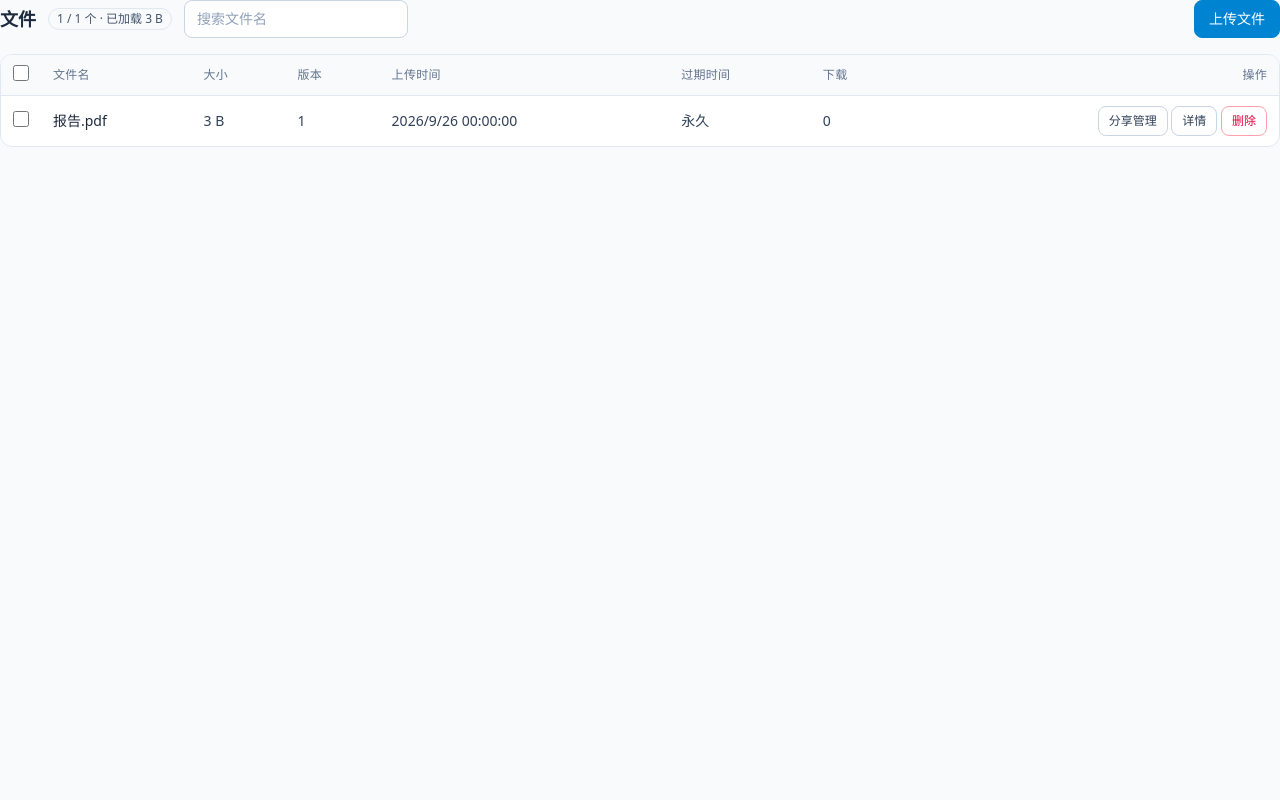
Test case: 分享管理 entry points › closes the dialog and leaves the list usable
The image size is (1280, 800).
Click the button "分享管理".
click(1133, 121)  # box [1098, 106, 1168, 136]
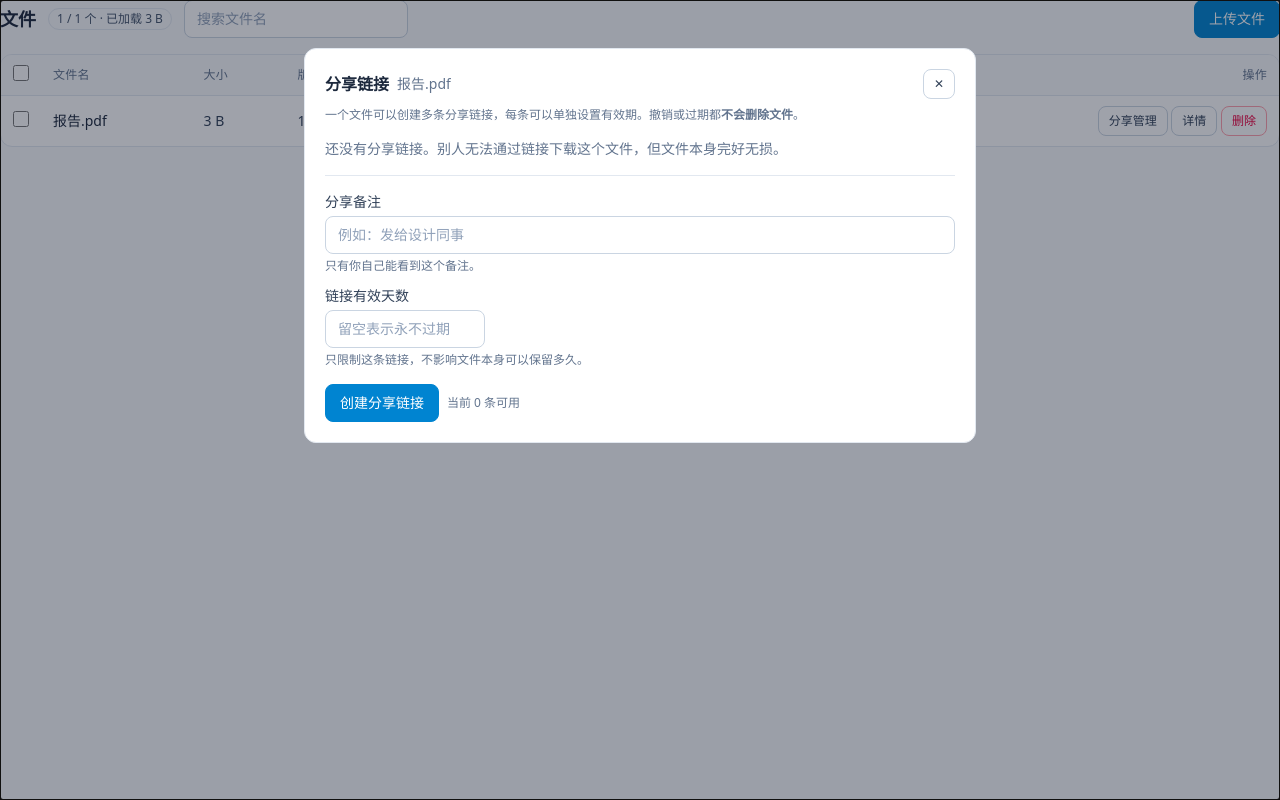
Now the dialog is shown
Press Escape
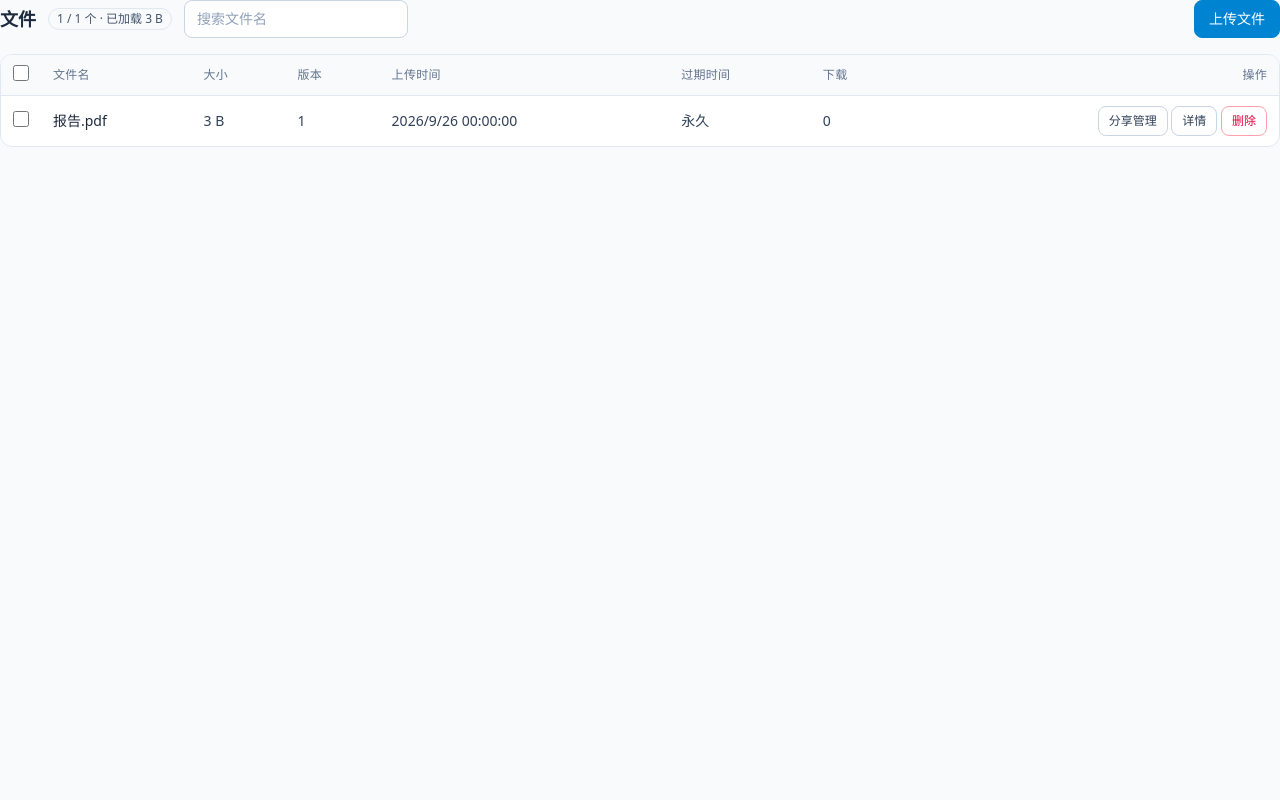
Expected: the button "分享管理" is shown, [1098, 106, 1168, 136]
Now the dialog is gone
